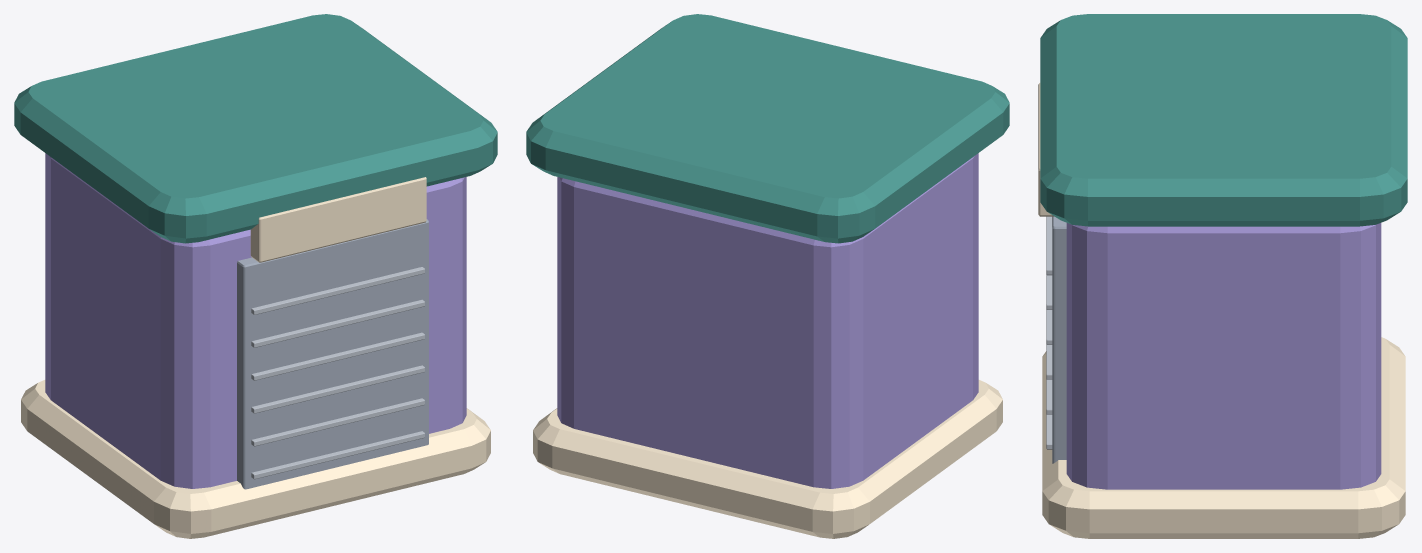
File: warehouse_b.glb
3 views of the same model, side by side, from view 1: azimuth 30°, elevation 25°; view 2: azimuth 150°, elevation 25°; view 3: azimuth 270°, elevation 25° (orthographic). The views are drawn at different scales.
Parts seen in each view (by area): view 1: roof, walls, loading_door, foundation, model; view 2: walls, roof, foundation; view 3: walls, roof, foundation, loading_door, model.
Boxes of the visible parts, x1=… form: roof: x1=14, y1=14, x2=497, y2=243; walls: x1=45, y1=153, x2=466, y2=488; loading_door: x1=237, y1=219, x2=428, y2=489; foundation: x1=21, y1=380, x2=490, y2=538; model: x1=250, y1=177, x2=426, y2=479; walls: x1=557, y1=153, x2=978, y2=488; roof: x1=526, y1=14, x2=1009, y2=243; foundation: x1=533, y1=380, x2=1002, y2=538; walls: x1=1066, y1=223, x2=1381, y2=489; roof: x1=1040, y1=14, x2=1407, y2=226; foundation: x1=1042, y1=337, x2=1405, y2=538; loading_door: x1=1052, y1=216, x2=1066, y2=463; model: x1=1038, y1=83, x2=1054, y2=449.
Bounding box in the file's own units: 2.5 × 2.4 × 2.2.
